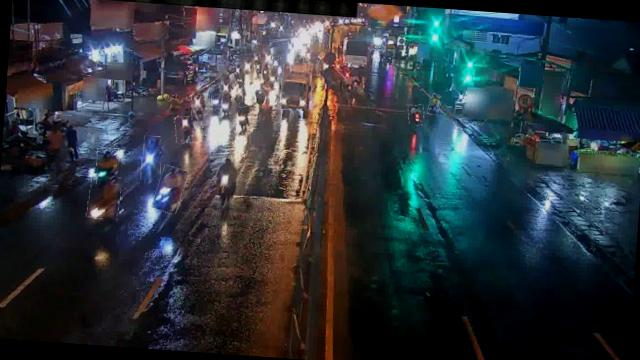Bike: (152, 165, 185, 214), (87, 174, 122, 220), (214, 156, 238, 204), (140, 136, 162, 180), (95, 147, 120, 185), (34, 111, 72, 135), (174, 114, 204, 144), (190, 93, 210, 122), (236, 106, 254, 132), (408, 103, 424, 126), (428, 93, 441, 115), (253, 84, 266, 106), (232, 80, 244, 102), (210, 84, 220, 106), (221, 94, 231, 116), (221, 77, 230, 93)
Truck: (280, 61, 314, 111)
